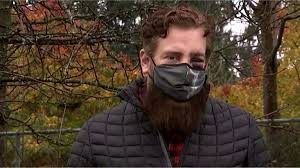with-mask: (135, 8, 214, 104)
